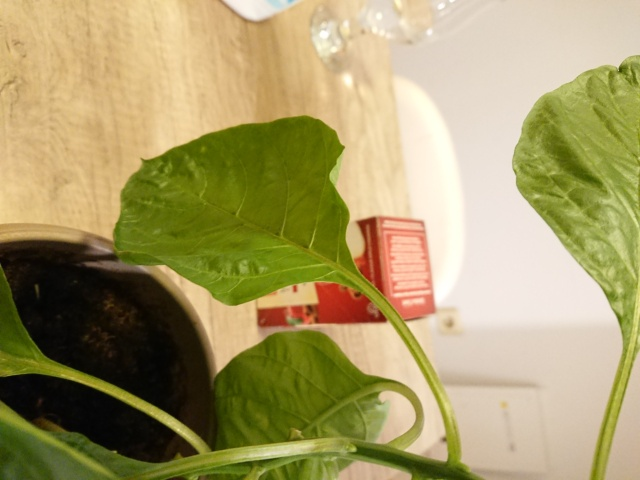Franck Apple Cinnamon Tea 60g: (244, 212, 440, 331)
